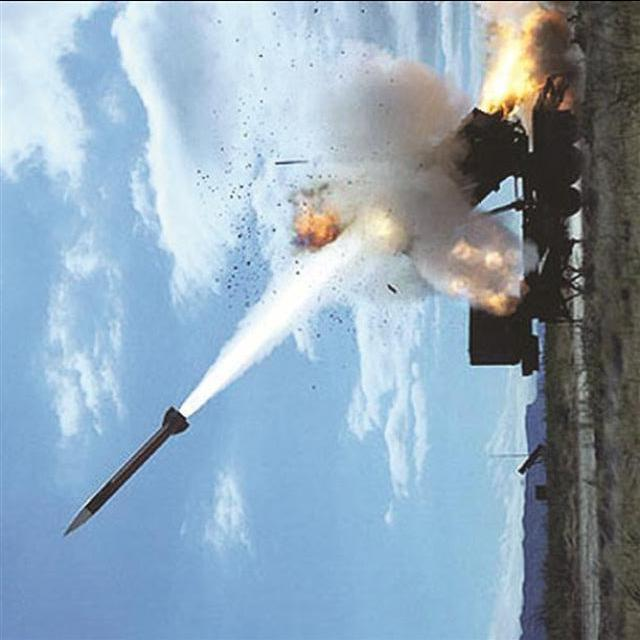Missile: (58, 400, 195, 541)
